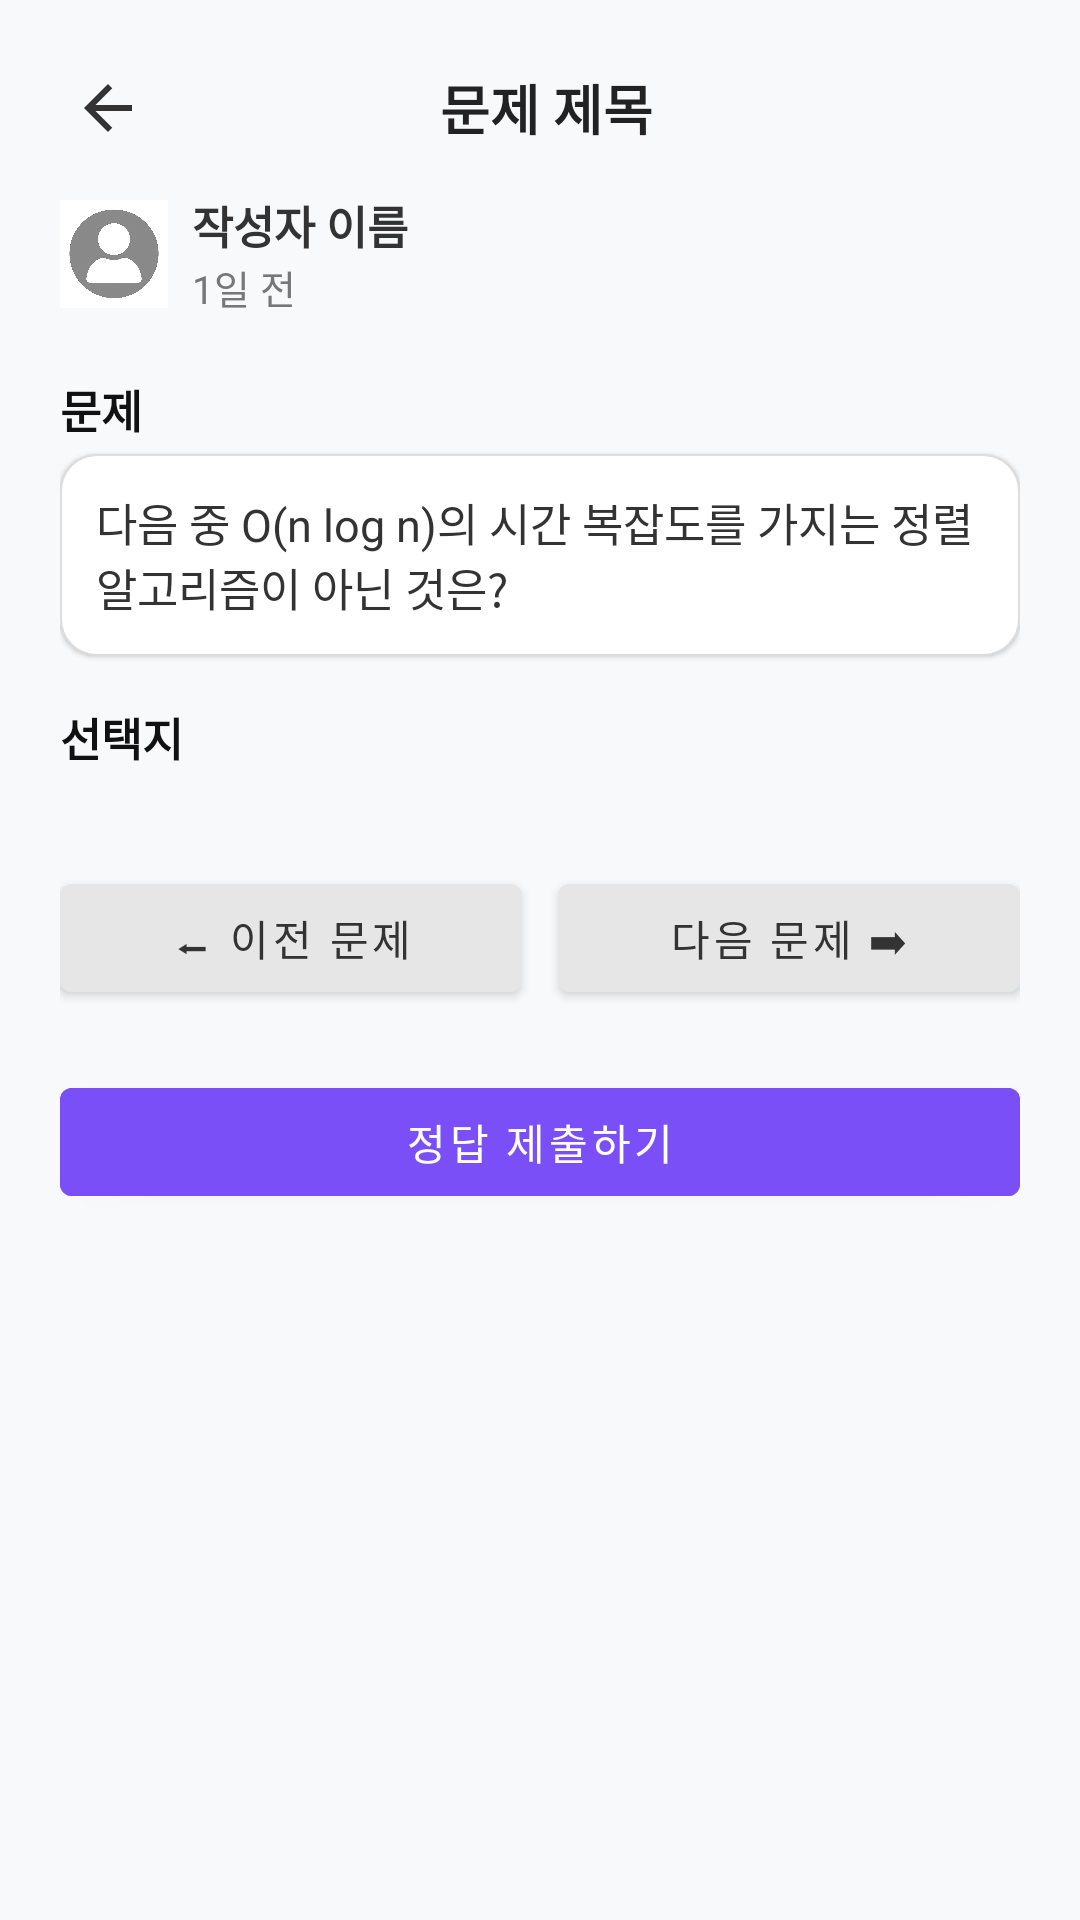

Where icons sit on this 1080 × 1920 app screen, as Rect(x1, y1, x2, y2):
profile: Rect(69, 210, 159, 298)
뒤로가기: Rect(84, 84, 132, 132)
